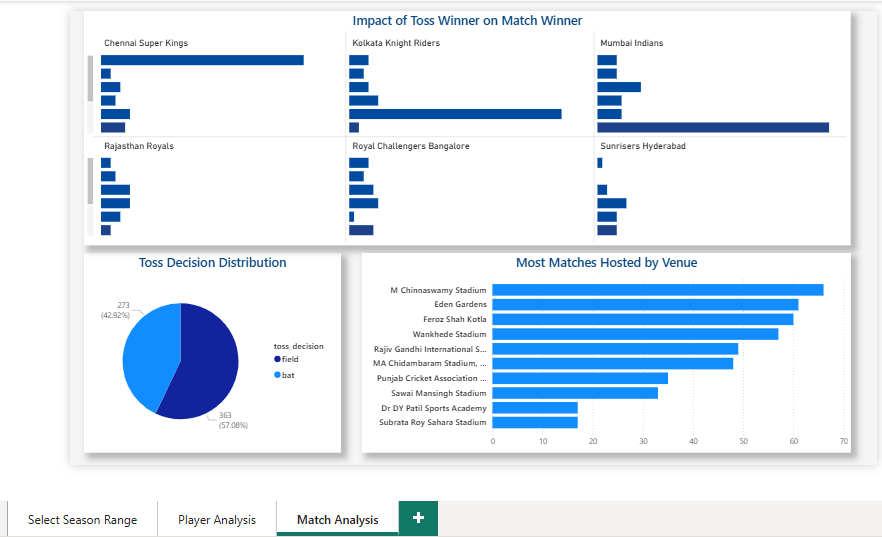

What the dashboard file says about the page in this screenshot:
{"tool":"powerbi","page":{"name":"Match Analysis","canvas":[1280,720],"ordinal":2},"visuals":[{"type":"pieChart","title":"Toss Decision Distribution","fields":{"Category":["matches.toss_decision"],"Y":["CountNonNull(matches.id)"]},"box":[21.7,383.3,408.3,316.7],"z":0},{"type":"barChart","title":"Impact of Toss Winner on Match Winner","fields":{"Category":["matches.toss_winner"],"Y":["CountNonNull(matches.id)"],"Rows":["matches.winner"]},"box":[22,0,1217,372],"z":1000},{"type":"clusteredBarChart","title":"Most Matches Hosted by Venue","fields":{"Category":["matches.venue"],"Y":["CountNonNull(matches.id)"]},"box":[463.1,383.8,776.5,316.9],"z":2000}]}

Visuals, with their boxes on the page's 1280x720 design canvas (x1, y1, x2, y2). These are canvas units, not pixel positions in the 882x537 screenshot, which may show the page scaled, cropped or inside an application window:
"Toss Decision Distribution" pieChart: (22, 383, 430, 700)
"Impact of Toss Winner on Match Winner" barChart: (22, 0, 1239, 372)
"Most Matches Hosted by Venue" clusteredBarChart: (463, 384, 1240, 701)
